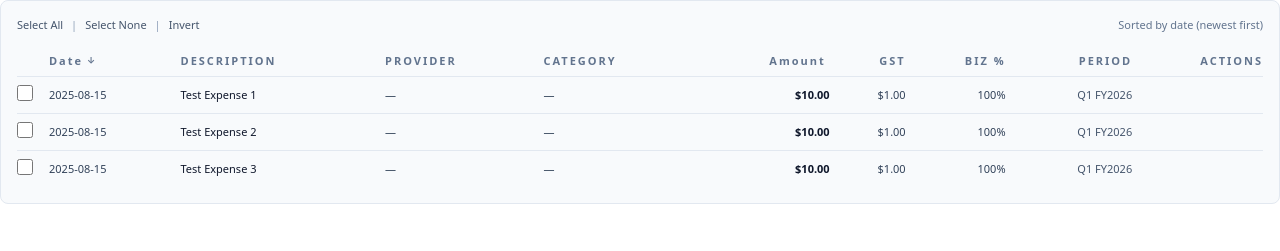
ExpensesTable › Bulk Operations › selects all rows when "Select All" is clicked
Click the button "Select All": (40, 25) 17,17 -> 63,34
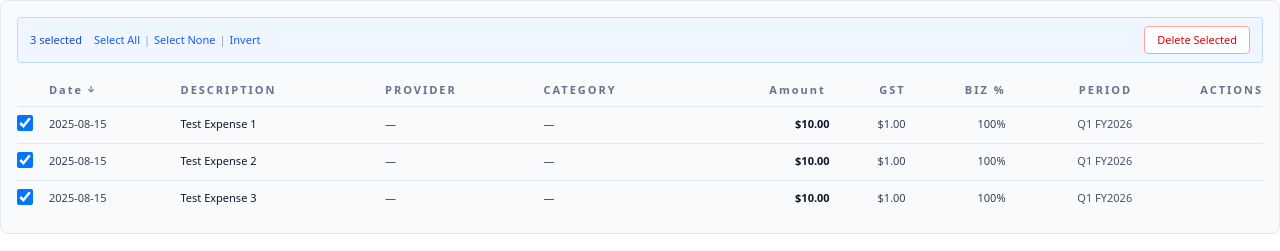
Now the checkbox named "select expense" is checked, box 17,115 -> 33,131
